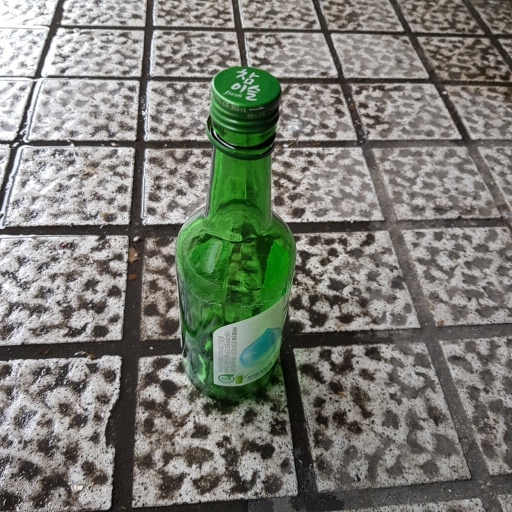Glass_0: (176, 66, 297, 397)
